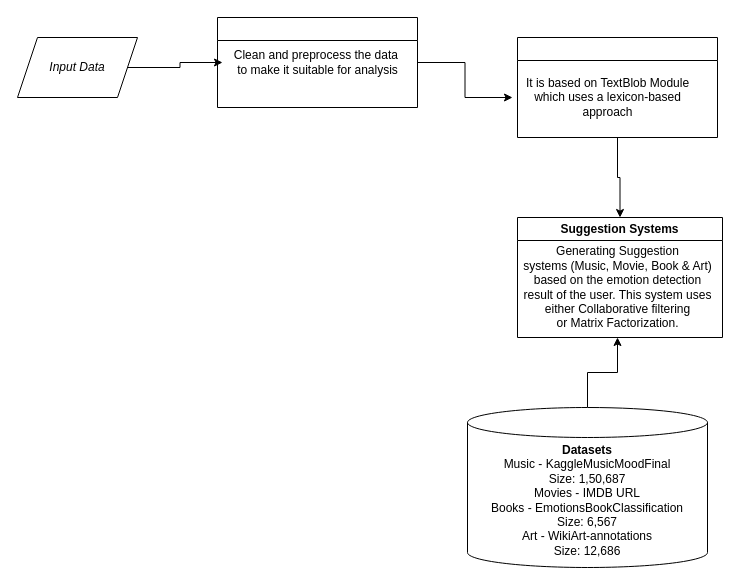
The diagram is 740 pixels wide and 585 high, and some of its shapes have lost their labels. The box of each missing label's shape, as (x1, y1, x2, y2) in pixels:
Data Pre-processing: (216, 16, 418, 108)
Emotion/Mood Detection: (516, 36, 718, 138)
